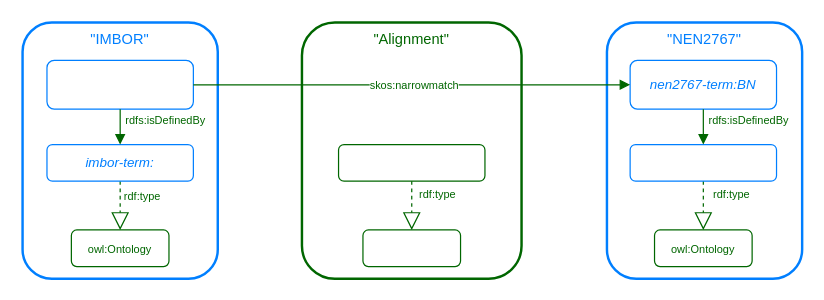
Image size: 824x300. Some labels were removed from this diagram. Each missing label, with the centre of its shape:
":imbor-term_nen2767-4-term" belongs at pixel 411 162.
"imbor-term:10f4ea25-70d7-...-d7be8dfb0e36" belongs at pixel 119 84.
"nen2767-term:" belongs at pixel 703 162.
"owl:Ontology void:Linkset" belongs at pixel 411 248.
